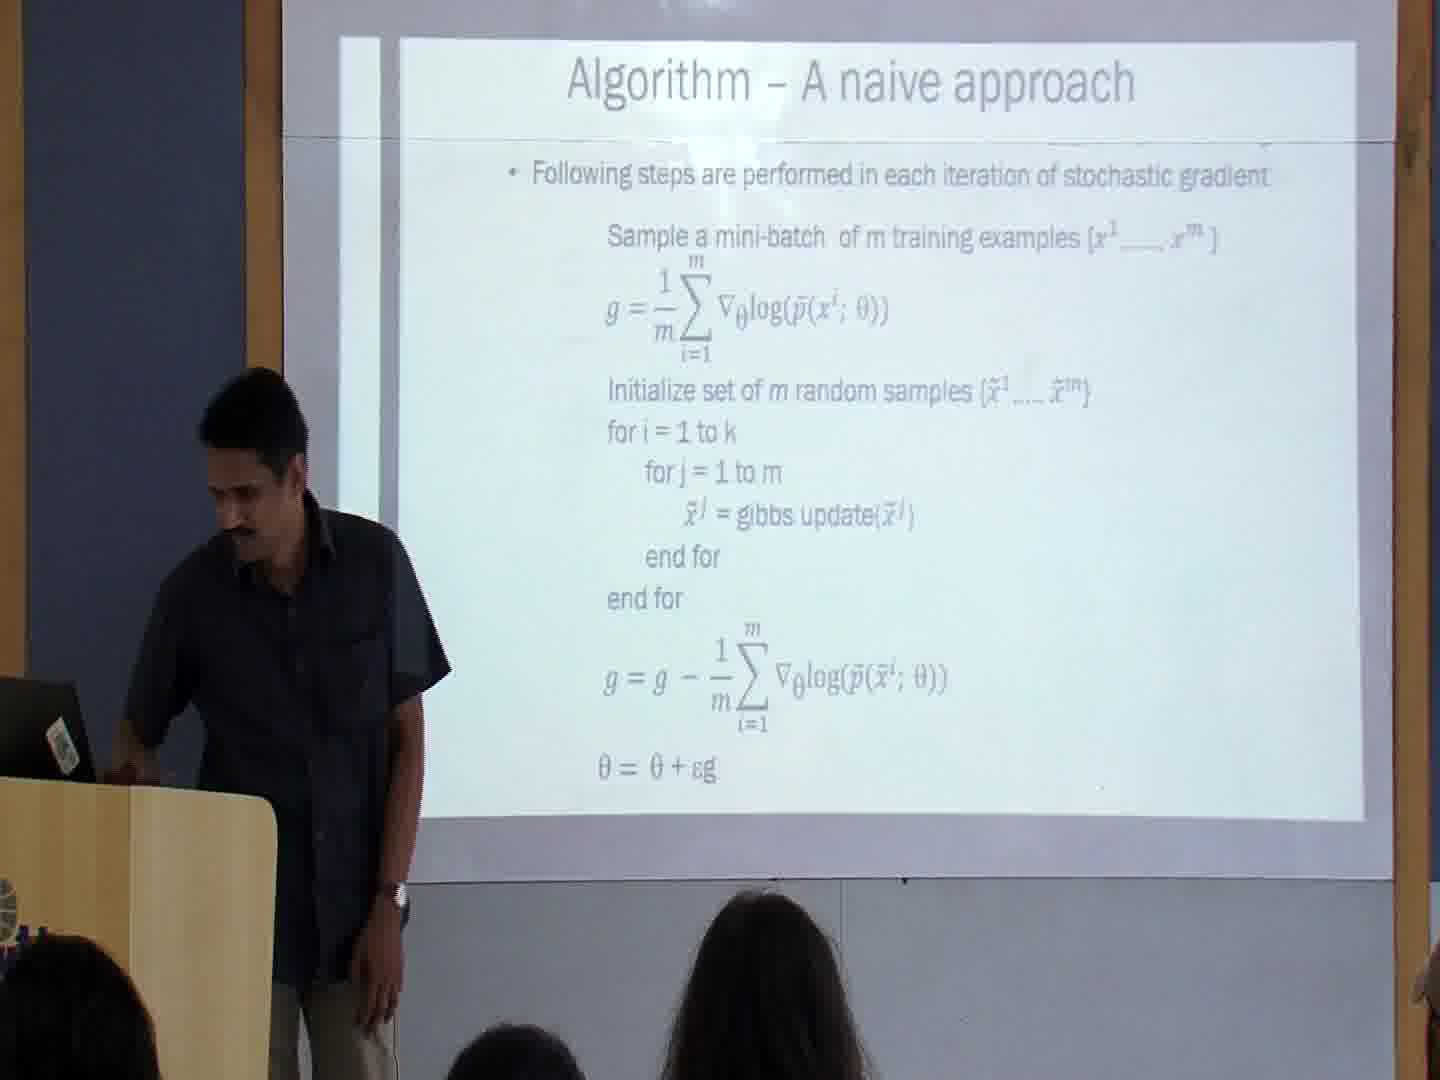eq: (595, 619, 954, 735), (595, 251, 899, 368), (588, 748, 728, 788)
